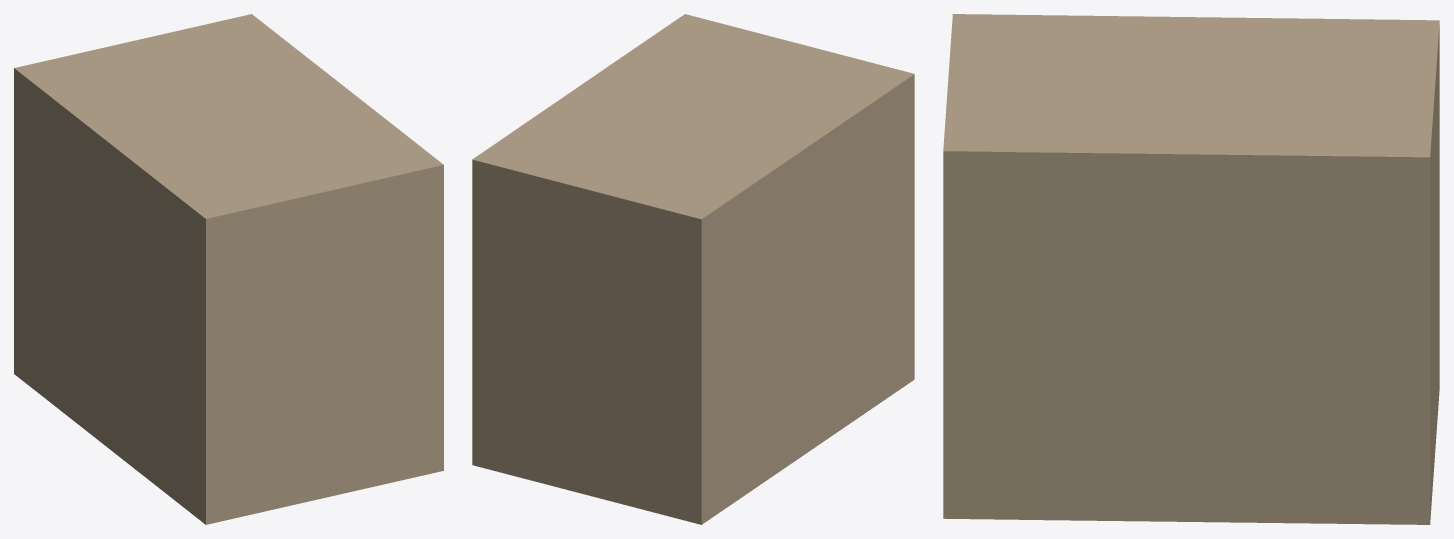
The model's file is bld_101374783.dae.
3 views of the same model, side by side, from view 1: azimuth 30°, elevation 25°; view 2: azimuth 150°, elevation 25°; view 3: azimuth 270°, elevation 25° (orthographic). The views are drawn at different scales.
Visible parts, largest first — view 1: bld_101374783; view 2: bld_101374783; view 3: bld_101374783.
Boxes of the visible parts, x1,y1,x2,y2 form: bld_101374783: (14,14,443,524); bld_101374783: (472,14,914,524); bld_101374783: (943,14,1439,524).
Bounding box in the file's own units: 6.69 × 9.79 × 8.
